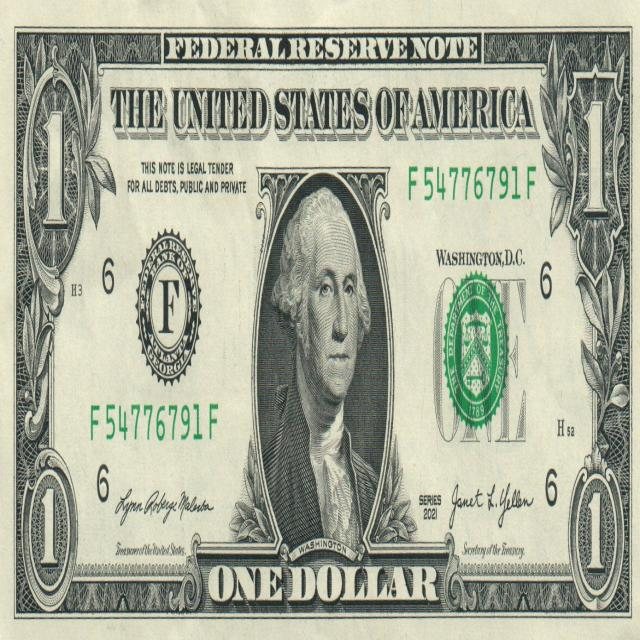SerialNumber: (409, 166, 536, 201), (91, 404, 203, 441)
